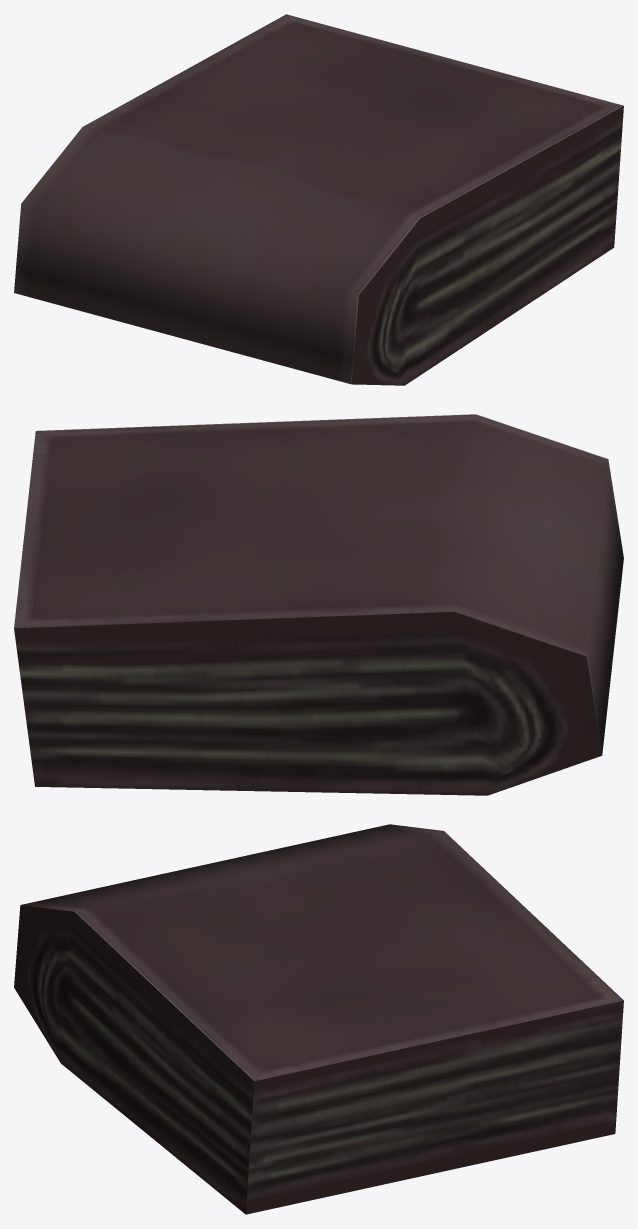
File: TianZhuJiaoTang_01_qianbao_01.FBX
3 views of the same model, one above another, from view 1: azimuth 30°, elevation 25°; view 2: azimuth 150°, elevation 25°; view 3: azimuth 270°, elevation 25° (orthographic). The views are drawn at different scales.
Parts seen in each view (by area): view 1: TianZhuJiaoTang_01_qianbao_01; view 2: TianZhuJiaoTang_01_qianbao_01; view 3: TianZhuJiaoTang_01_qianbao_01.
Part boxes in pixels (bbox=[...]): TianZhuJiaoTang_01_qianbao_01: bbox=[14, 14, 623, 385]; TianZhuJiaoTang_01_qianbao_01: bbox=[14, 414, 623, 795]; TianZhuJiaoTang_01_qianbao_01: bbox=[14, 824, 623, 1214].
Size of the model in its own units: 102 by 27.95 by 94.84.
